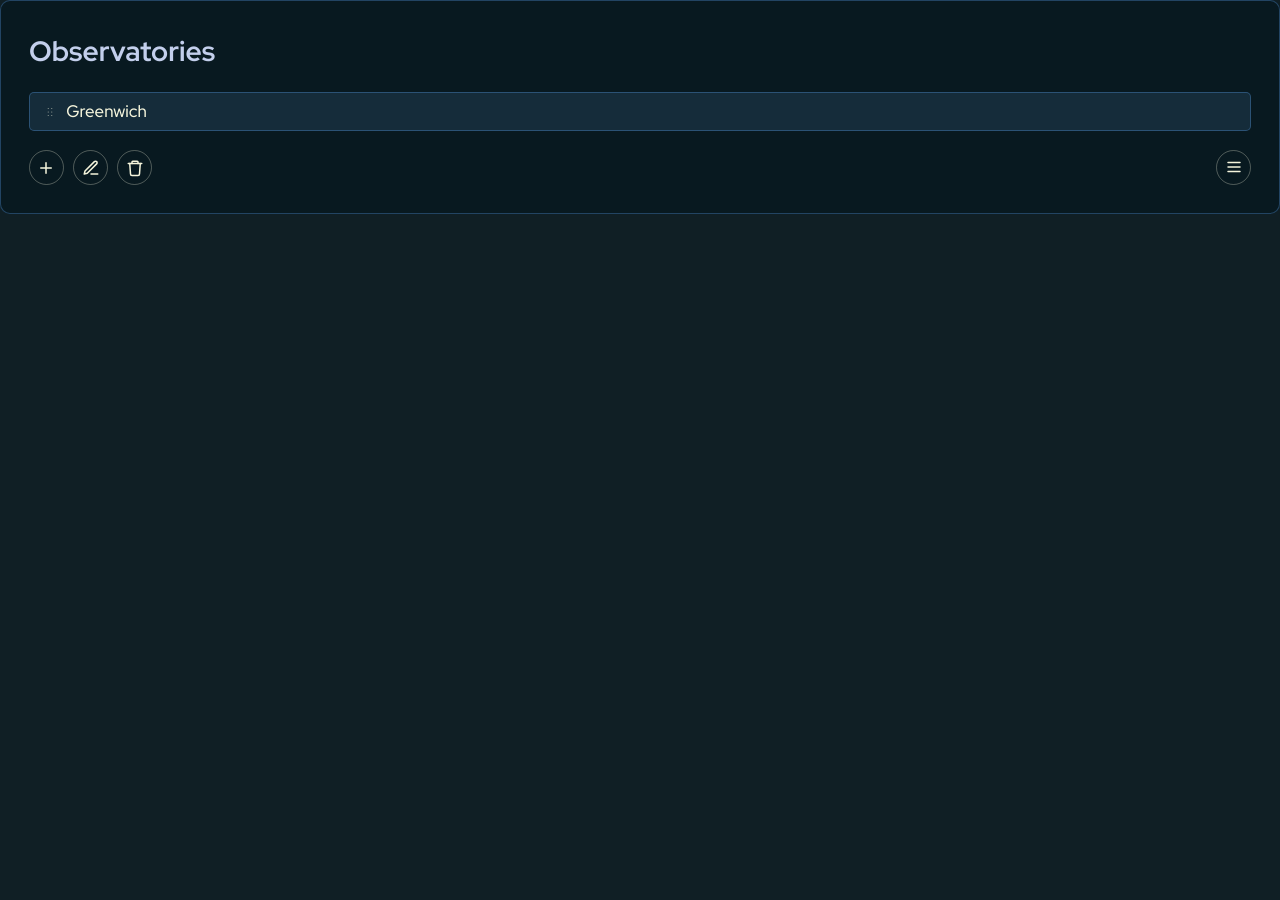
Test: adding › creates and selects the observatory on save
Click the button named "add observatory": [46, 167] box [29, 150, 64, 185]
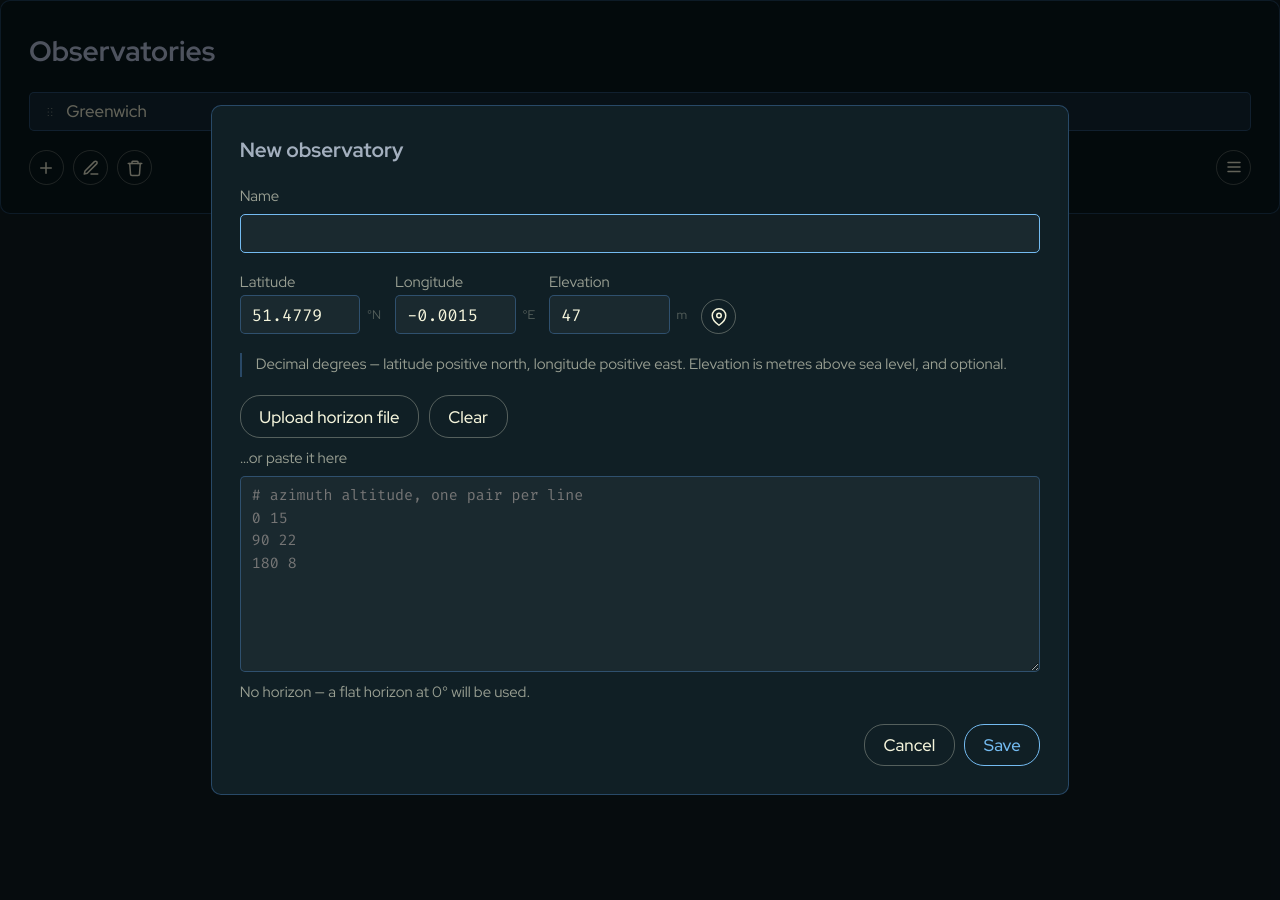
In the field labelled "Name": [640, 233] box [240, 214, 1040, 253], type "Dark site"
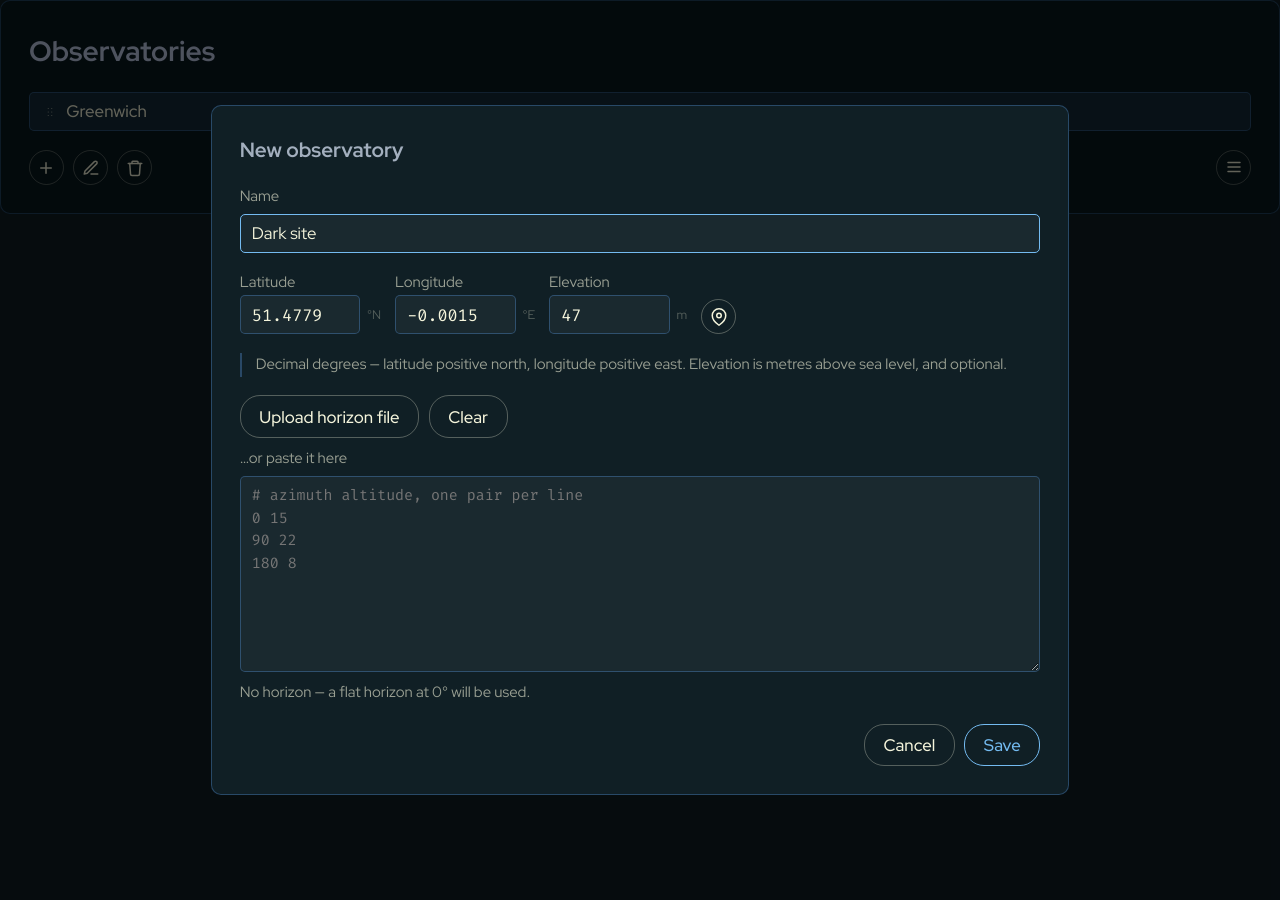
Click the button "Save": [1002, 745] box [964, 724, 1040, 766]
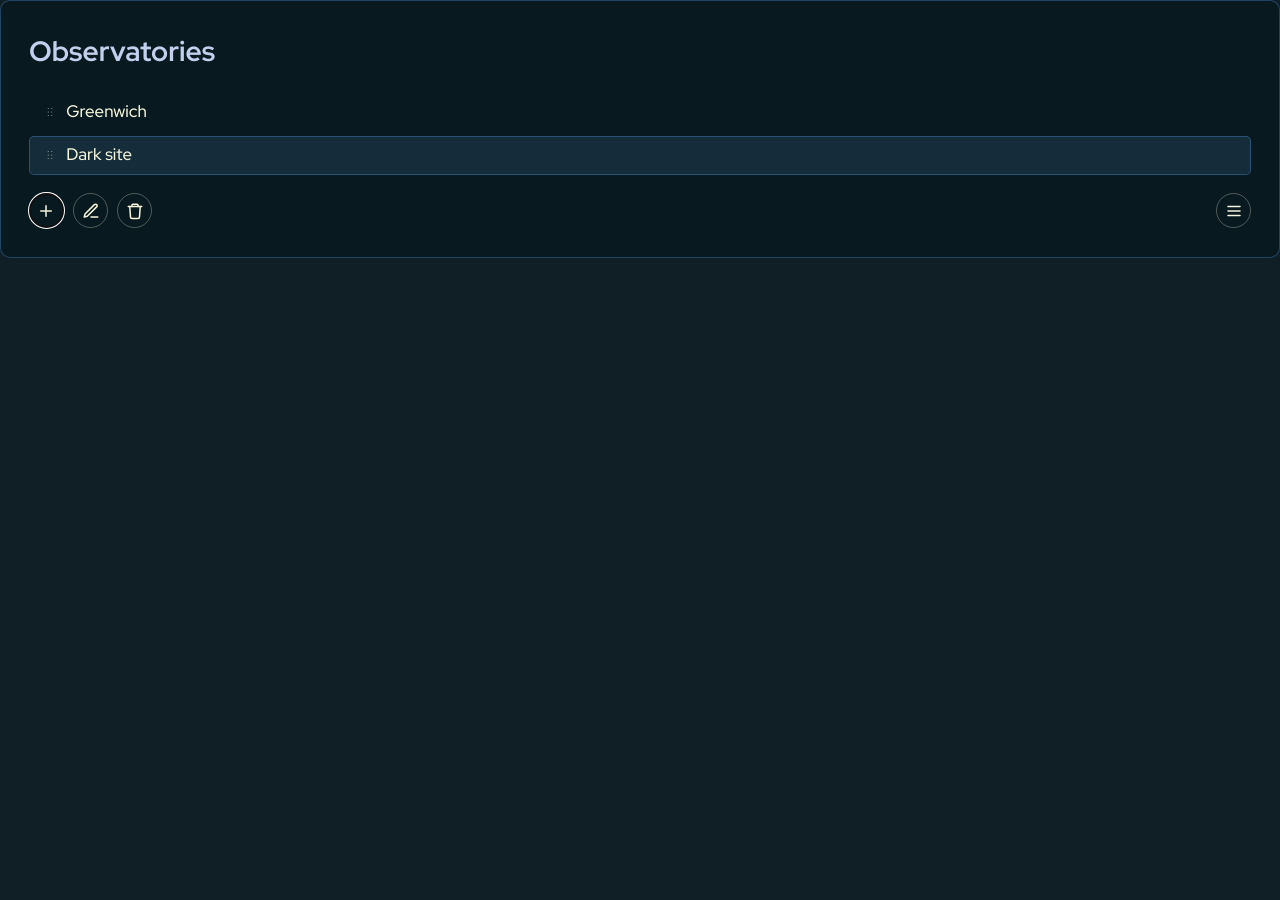
expect the text "Dark site" is shown: met, box [66, 144, 132, 166]
expect the dialog is gone: met
